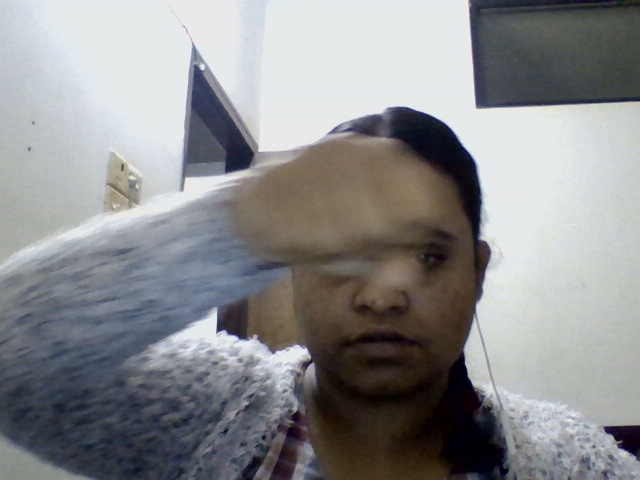Yes: (239, 113, 495, 325)
